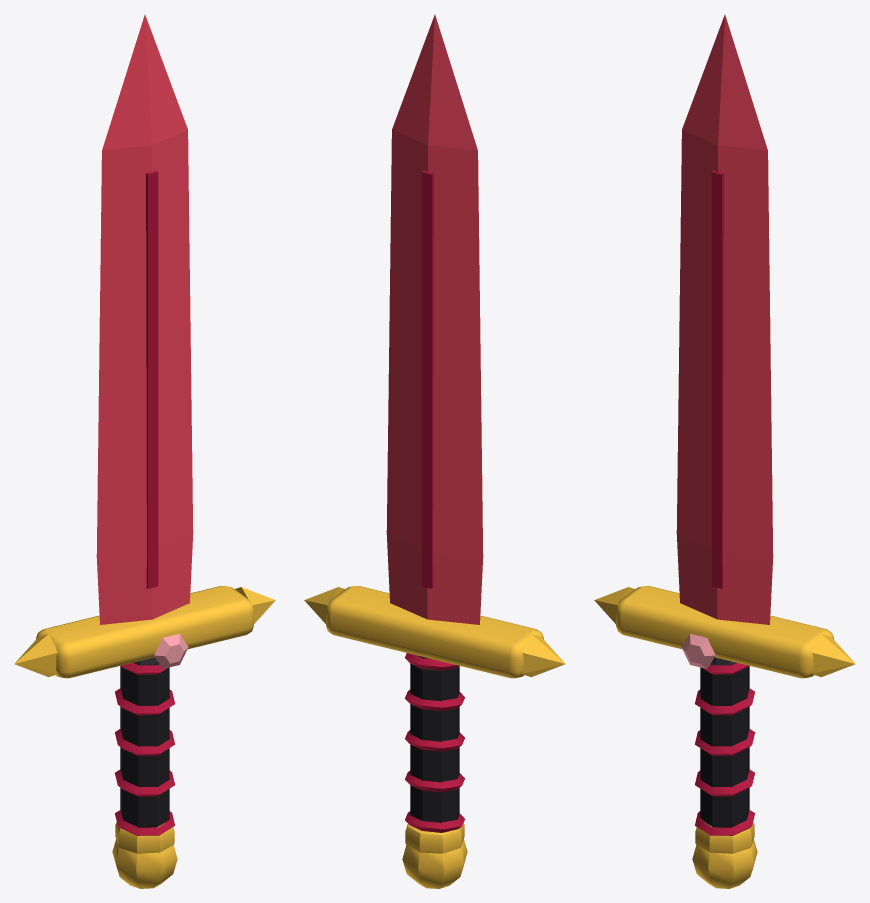
The model's file is RubySword.fbx.
The picture shows the model from 3 angles, left to right: view 1: azimuth 30°, elevation 25°; view 2: azimuth 150°, elevation 25°; view 3: azimuth 330°, elevation 25°; orthographic projection.
Parts seen in each view (by area): view 1: RubySword; view 2: RubySword; view 3: RubySword.
Part boxes in pixels (box(x1,y1,x2,y2)): RubySword: box(14, 14, 275, 888); RubySword: box(304, 14, 565, 888); RubySword: box(594, 14, 855, 888).
Bounding box in the file's own units: 1.52 × 4.84 × 0.47.
Materials: 1 (1 with a texture image).
